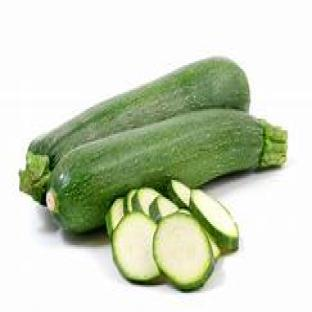Zucchini: (21, 58, 249, 202), (48, 110, 286, 231), (153, 213, 214, 290), (112, 213, 159, 283), (191, 190, 238, 252), (149, 196, 178, 222), (133, 188, 159, 216), (106, 198, 124, 237), (167, 180, 190, 208), (207, 234, 220, 262), (124, 190, 137, 214), (179, 209, 191, 214)
